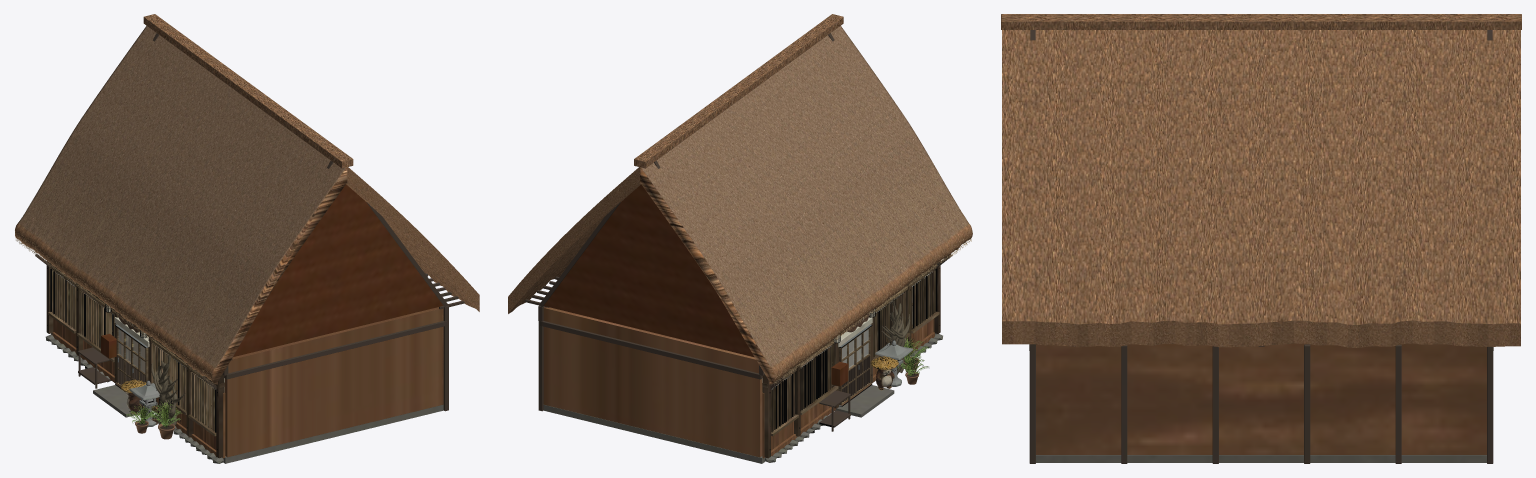
The model's file is irori-restaurant-interior-v1.glb.
The picture shows the model from 3 angles, left to right: view 1: azimuth 30°, elevation 25°; view 2: azimuth 150°, elevation 25°; view 3: azimuth 270°, elevation 25°; orthographic projection. The views are drawn at different scales.
Parts seen in each view (by area): view 1: irori-v5-roof.007, irori-v5-body.007, irori-v5-fibers.006, irori-v5-garden.003, irori-v5-interior, irori-v5-doorLeft, irori-v5-doorRight; view 2: irori-v5-roof.007, irori-v5-body.007, irori-v5-fibers.006, irori-v5-garden.003, irori-v5-doorRight, irori-v5-interior, irori-v5-doorLeft; view 3: irori-v5-roof.007, irori-v5-body.007.
Boxes of the visible parts, x1,y1,x2,y2 form: irori-v5-roof.007: [15, 14, 479, 384]; irori-v5-body.007: [35, 33, 464, 463]; irori-v5-fibers.006: [15, 166, 251, 384]; irori-v5-garden.003: [121, 355, 185, 439]; irori-v5-interior: [52, 274, 224, 456]; irori-v5-doorLeft: [116, 327, 131, 386]; irori-v5-doorRight: [131, 338, 148, 382]; irori-v5-roof.007: [508, 14, 972, 384]; irori-v5-body.007: [524, 33, 952, 463]; irori-v5-fibers.006: [740, 161, 972, 384]; irori-v5-garden.003: [870, 299, 930, 390]; irori-v5-doorRight: [856, 327, 870, 393]; irori-v5-interior: [762, 274, 934, 455]; irori-v5-doorLeft: [839, 338, 856, 404]; irori-v5-roof.007: [1001, 14, 1521, 347]; irori-v5-body.007: [1029, 30, 1493, 463].
Size of the model in its own units: 11.33 by 10.79 by 13.55.
Materials: 12 (7 with a texture image).
